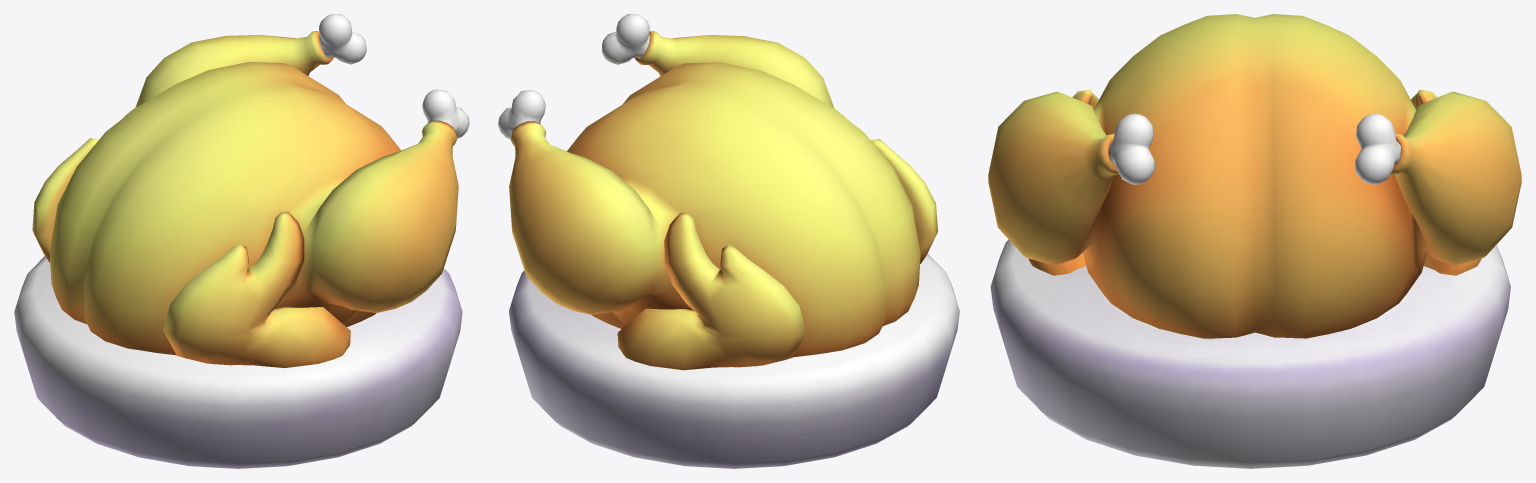
File: pengren.FBX
The picture shows the model from 3 angles, left to right: view 1: azimuth 30°, elevation 25°; view 2: azimuth 150°, elevation 25°; view 3: azimuth 270°, elevation 25°; orthographic projection. The views are drawn at different scales.
Parts seen in each view (by area): view 1: pengren; view 2: pengren; view 3: pengren.
Part boxes in pixels (box(x1,y1,x2,y2)): pengren: box(14, 14, 469, 468); pengren: box(498, 14, 959, 468); pengren: box(988, 14, 1521, 468).
Size of the model in its own units: 67.31 by 49.94 by 68.96.
